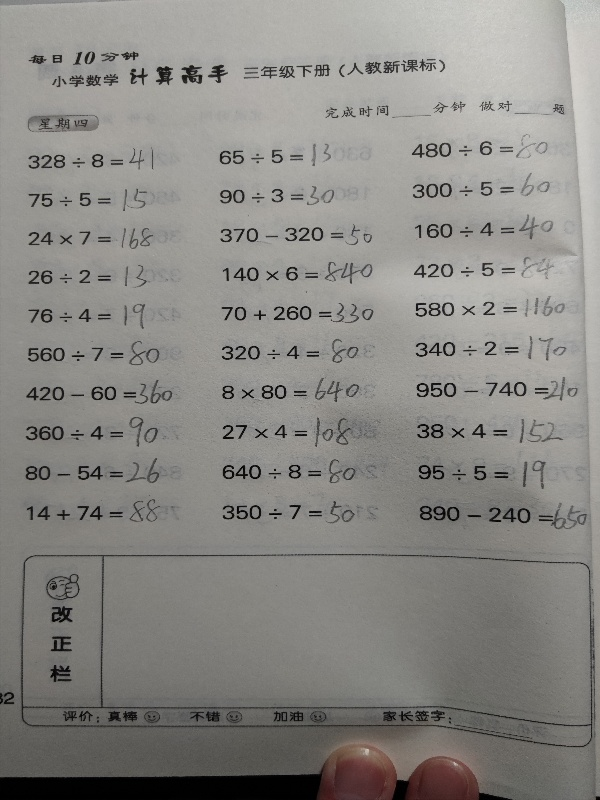equation: (417, 500, 592, 533), (218, 376, 371, 413), (415, 453, 556, 493), (219, 335, 379, 368), (413, 374, 582, 405), (22, 414, 167, 450), (220, 297, 382, 328), (19, 456, 171, 489), (219, 498, 382, 528), (412, 331, 569, 362), (217, 416, 364, 449), (23, 378, 179, 409), (217, 220, 376, 250), (414, 416, 567, 447), (411, 291, 573, 320), (220, 259, 382, 288), (408, 130, 554, 161), (24, 497, 170, 528), (411, 212, 555, 243), (24, 299, 155, 333), (24, 340, 167, 369), (216, 459, 363, 487), (410, 254, 559, 281), (24, 225, 156, 255), (25, 261, 151, 292), (25, 144, 158, 173), (24, 187, 151, 216), (408, 177, 552, 201), (215, 143, 334, 172), (216, 182, 338, 210)
